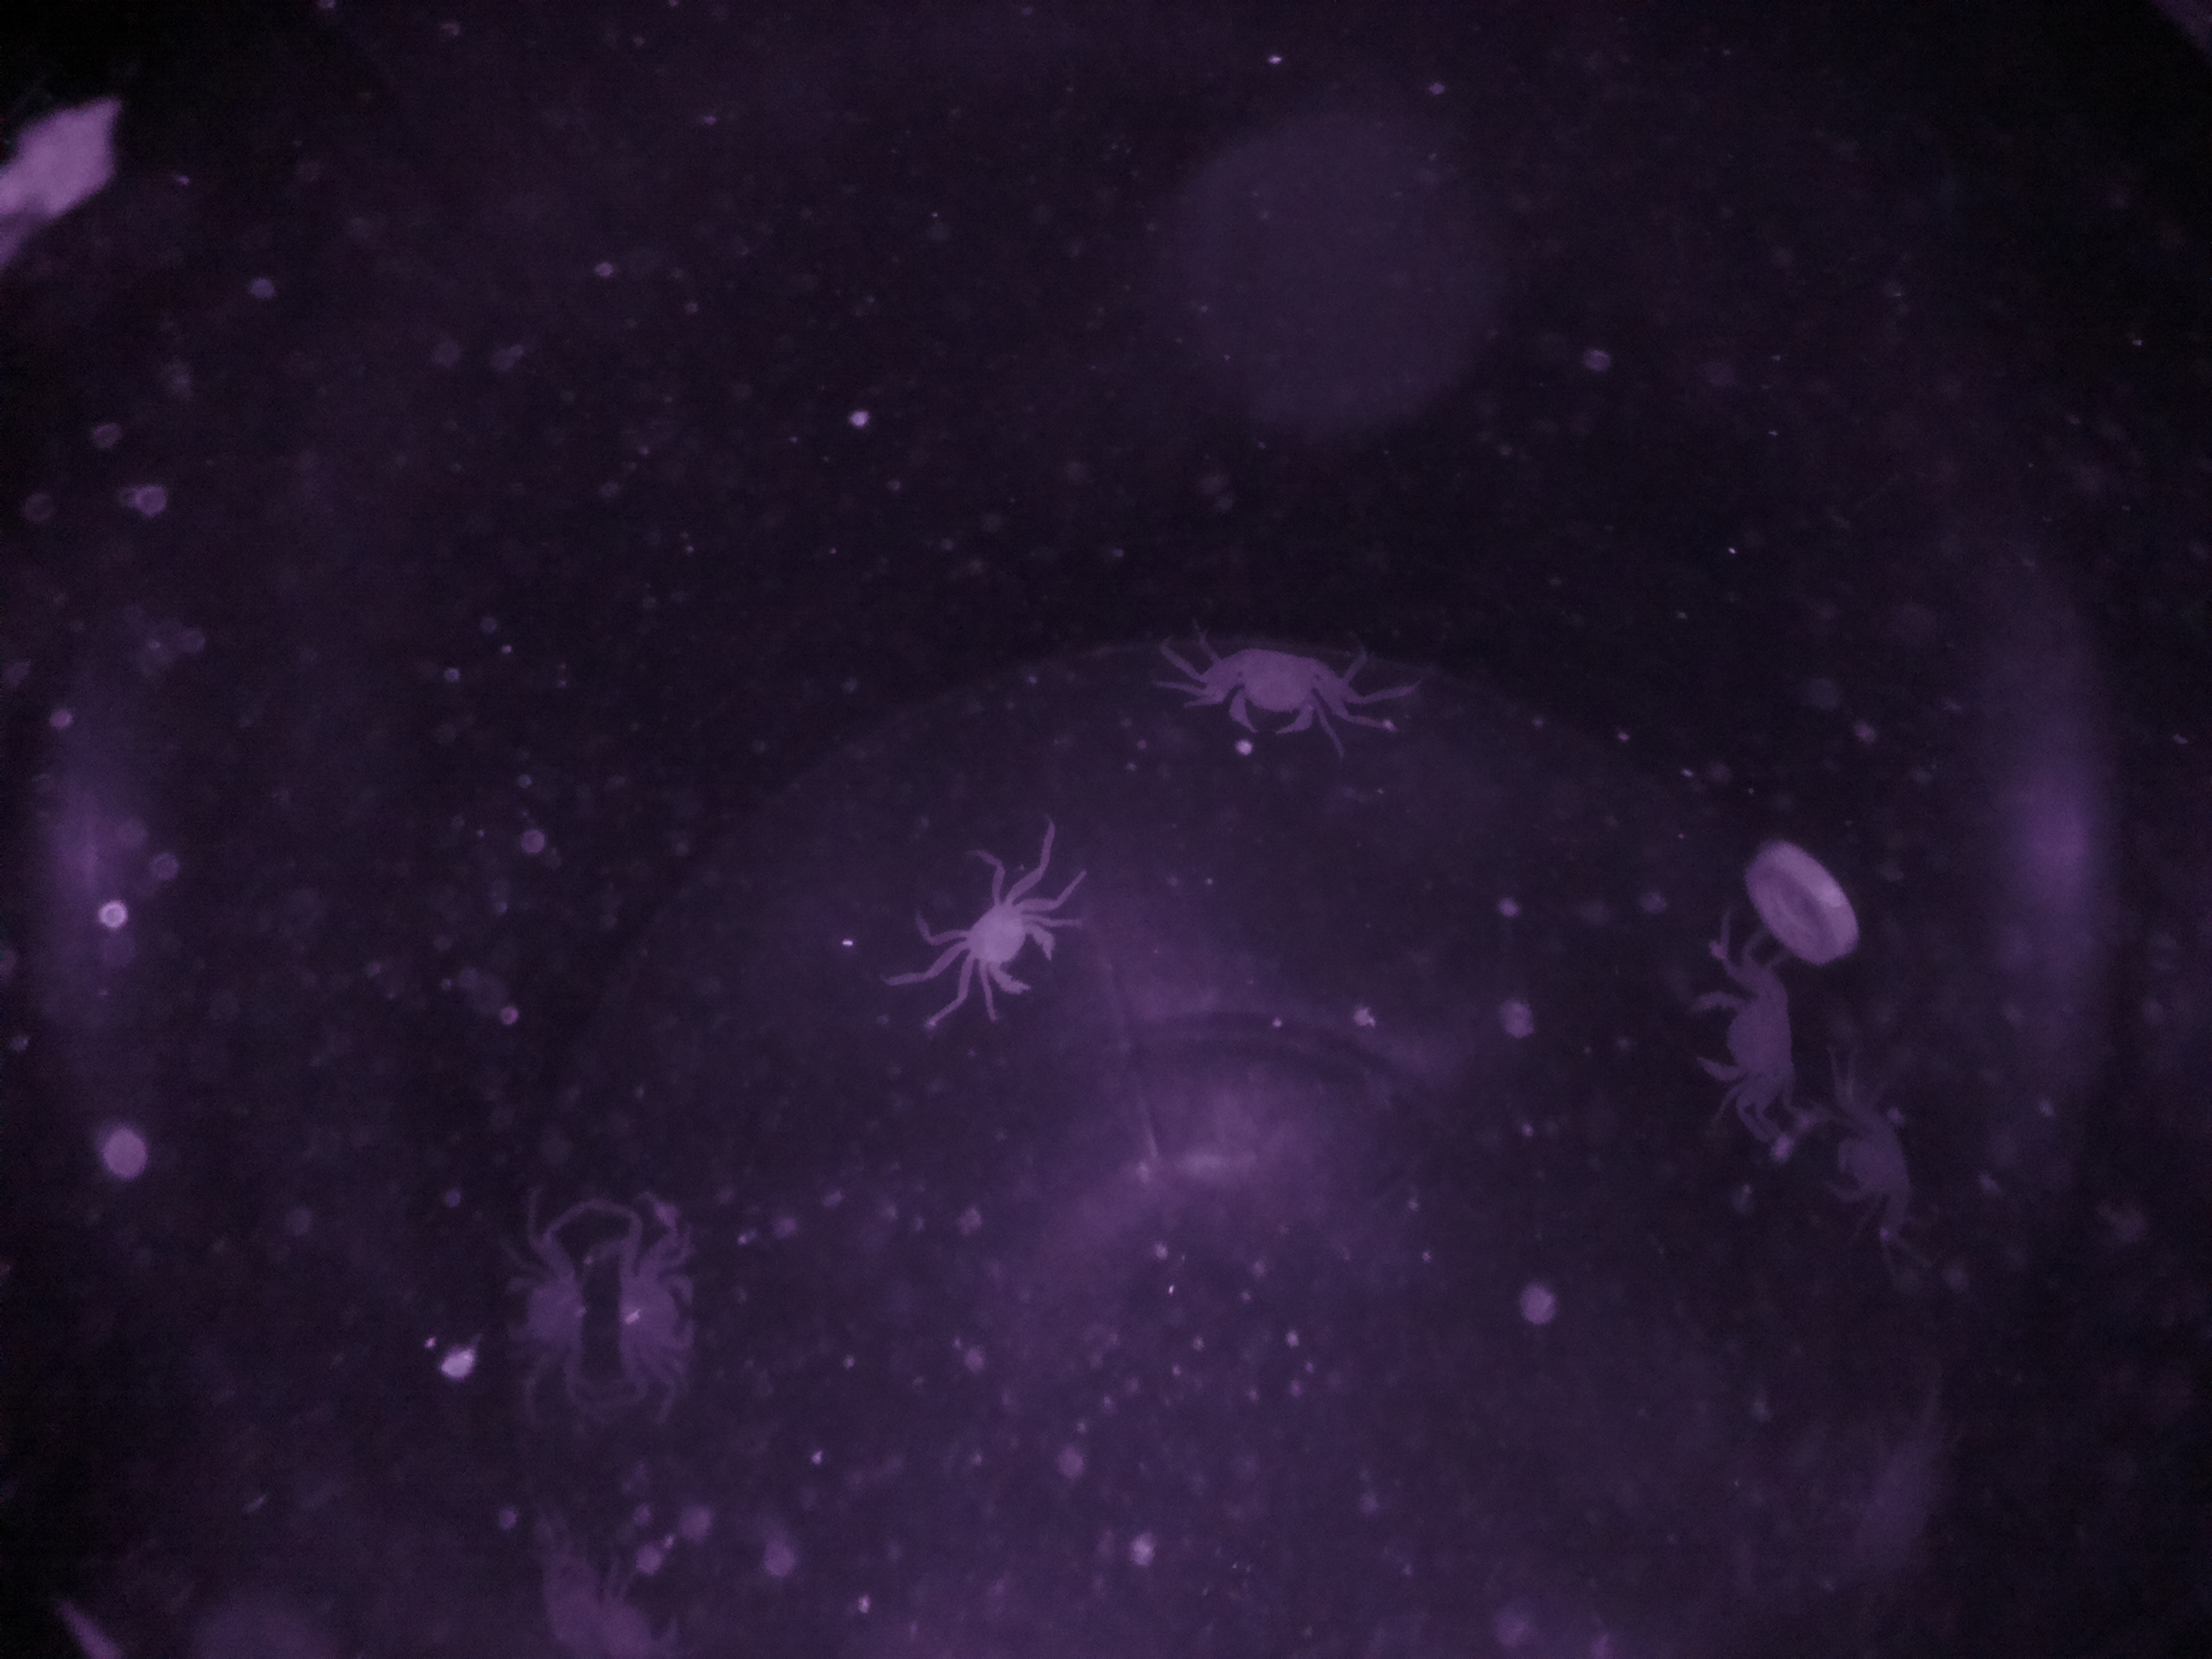Crab: (1660, 945, 1815, 1119), (601, 1218, 730, 1420), (1181, 636, 1364, 760), (493, 1195, 594, 1413), (953, 889, 1068, 1012)
